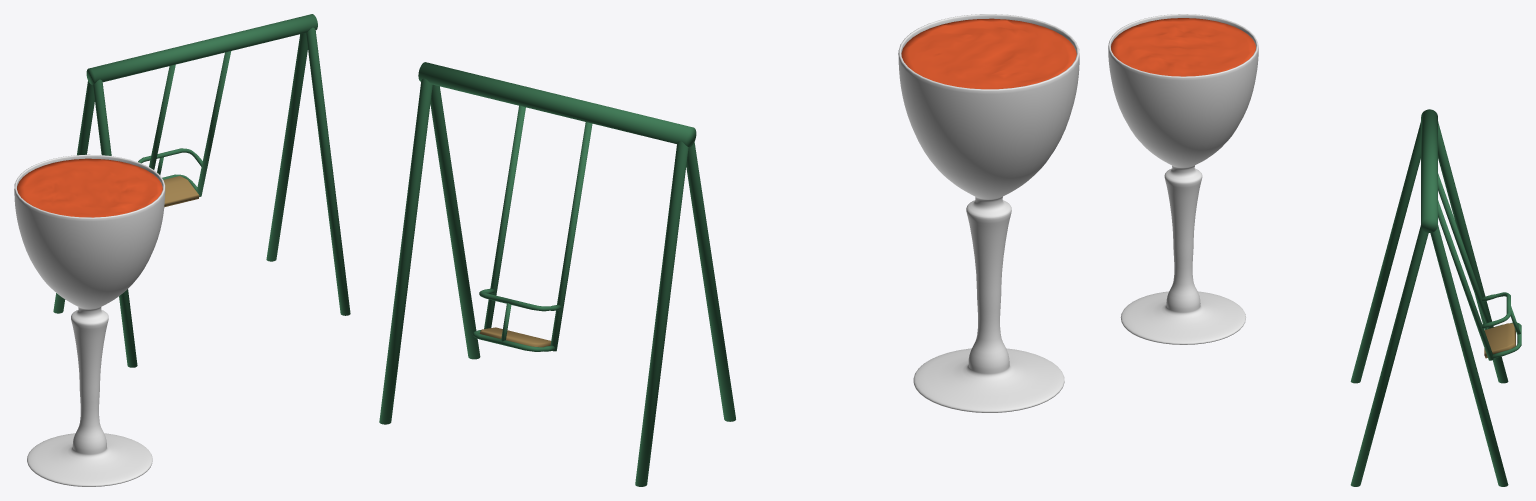
3 renders of one model, left to right at view 1: azimuth 30°, elevation 25°; view 2: azimuth 150°, elevation 25°; view 3: azimuth 270°, elevation 25°, orthographic. The views are drawn at different scales.
Parts seen in each view (by area): view 1: Nick Norra.002, Cylinder, Cylinder.001, Cylinder.002; view 2: Nick Norra.002, Cylinder, Cylinder.001; view 3: Nick Norra.002, Cylinder, Cylinder.001, Cylinder.002.
Part boxes in pixels (bbox=[...]): Nick Norra.002: bbox=[14, 154, 165, 486]; Cylinder: bbox=[53, 14, 350, 367]; Cylinder.001: bbox=[138, 51, 231, 196]; Cylinder.002: bbox=[163, 176, 199, 207]; Nick Norra.002: bbox=[898, 14, 1079, 412]; Cylinder: bbox=[379, 62, 735, 486]; Cylinder.001: bbox=[472, 105, 592, 351]; Nick Norra.002: bbox=[1108, 14, 1258, 344]; Cylinder: bbox=[1350, 109, 1508, 486]; Cylinder.001: bbox=[1438, 173, 1521, 360]; Cylinder.002: bbox=[1484, 323, 1515, 358].
Size of the model in its own units: 0.2191 by 0.1391 by 0.1909.
